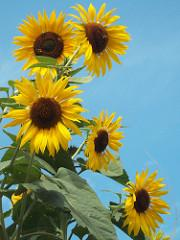sunflower: (2, 70, 90, 156), (11, 9, 79, 79), (70, 4, 134, 78), (123, 167, 173, 239), (84, 108, 127, 174)
